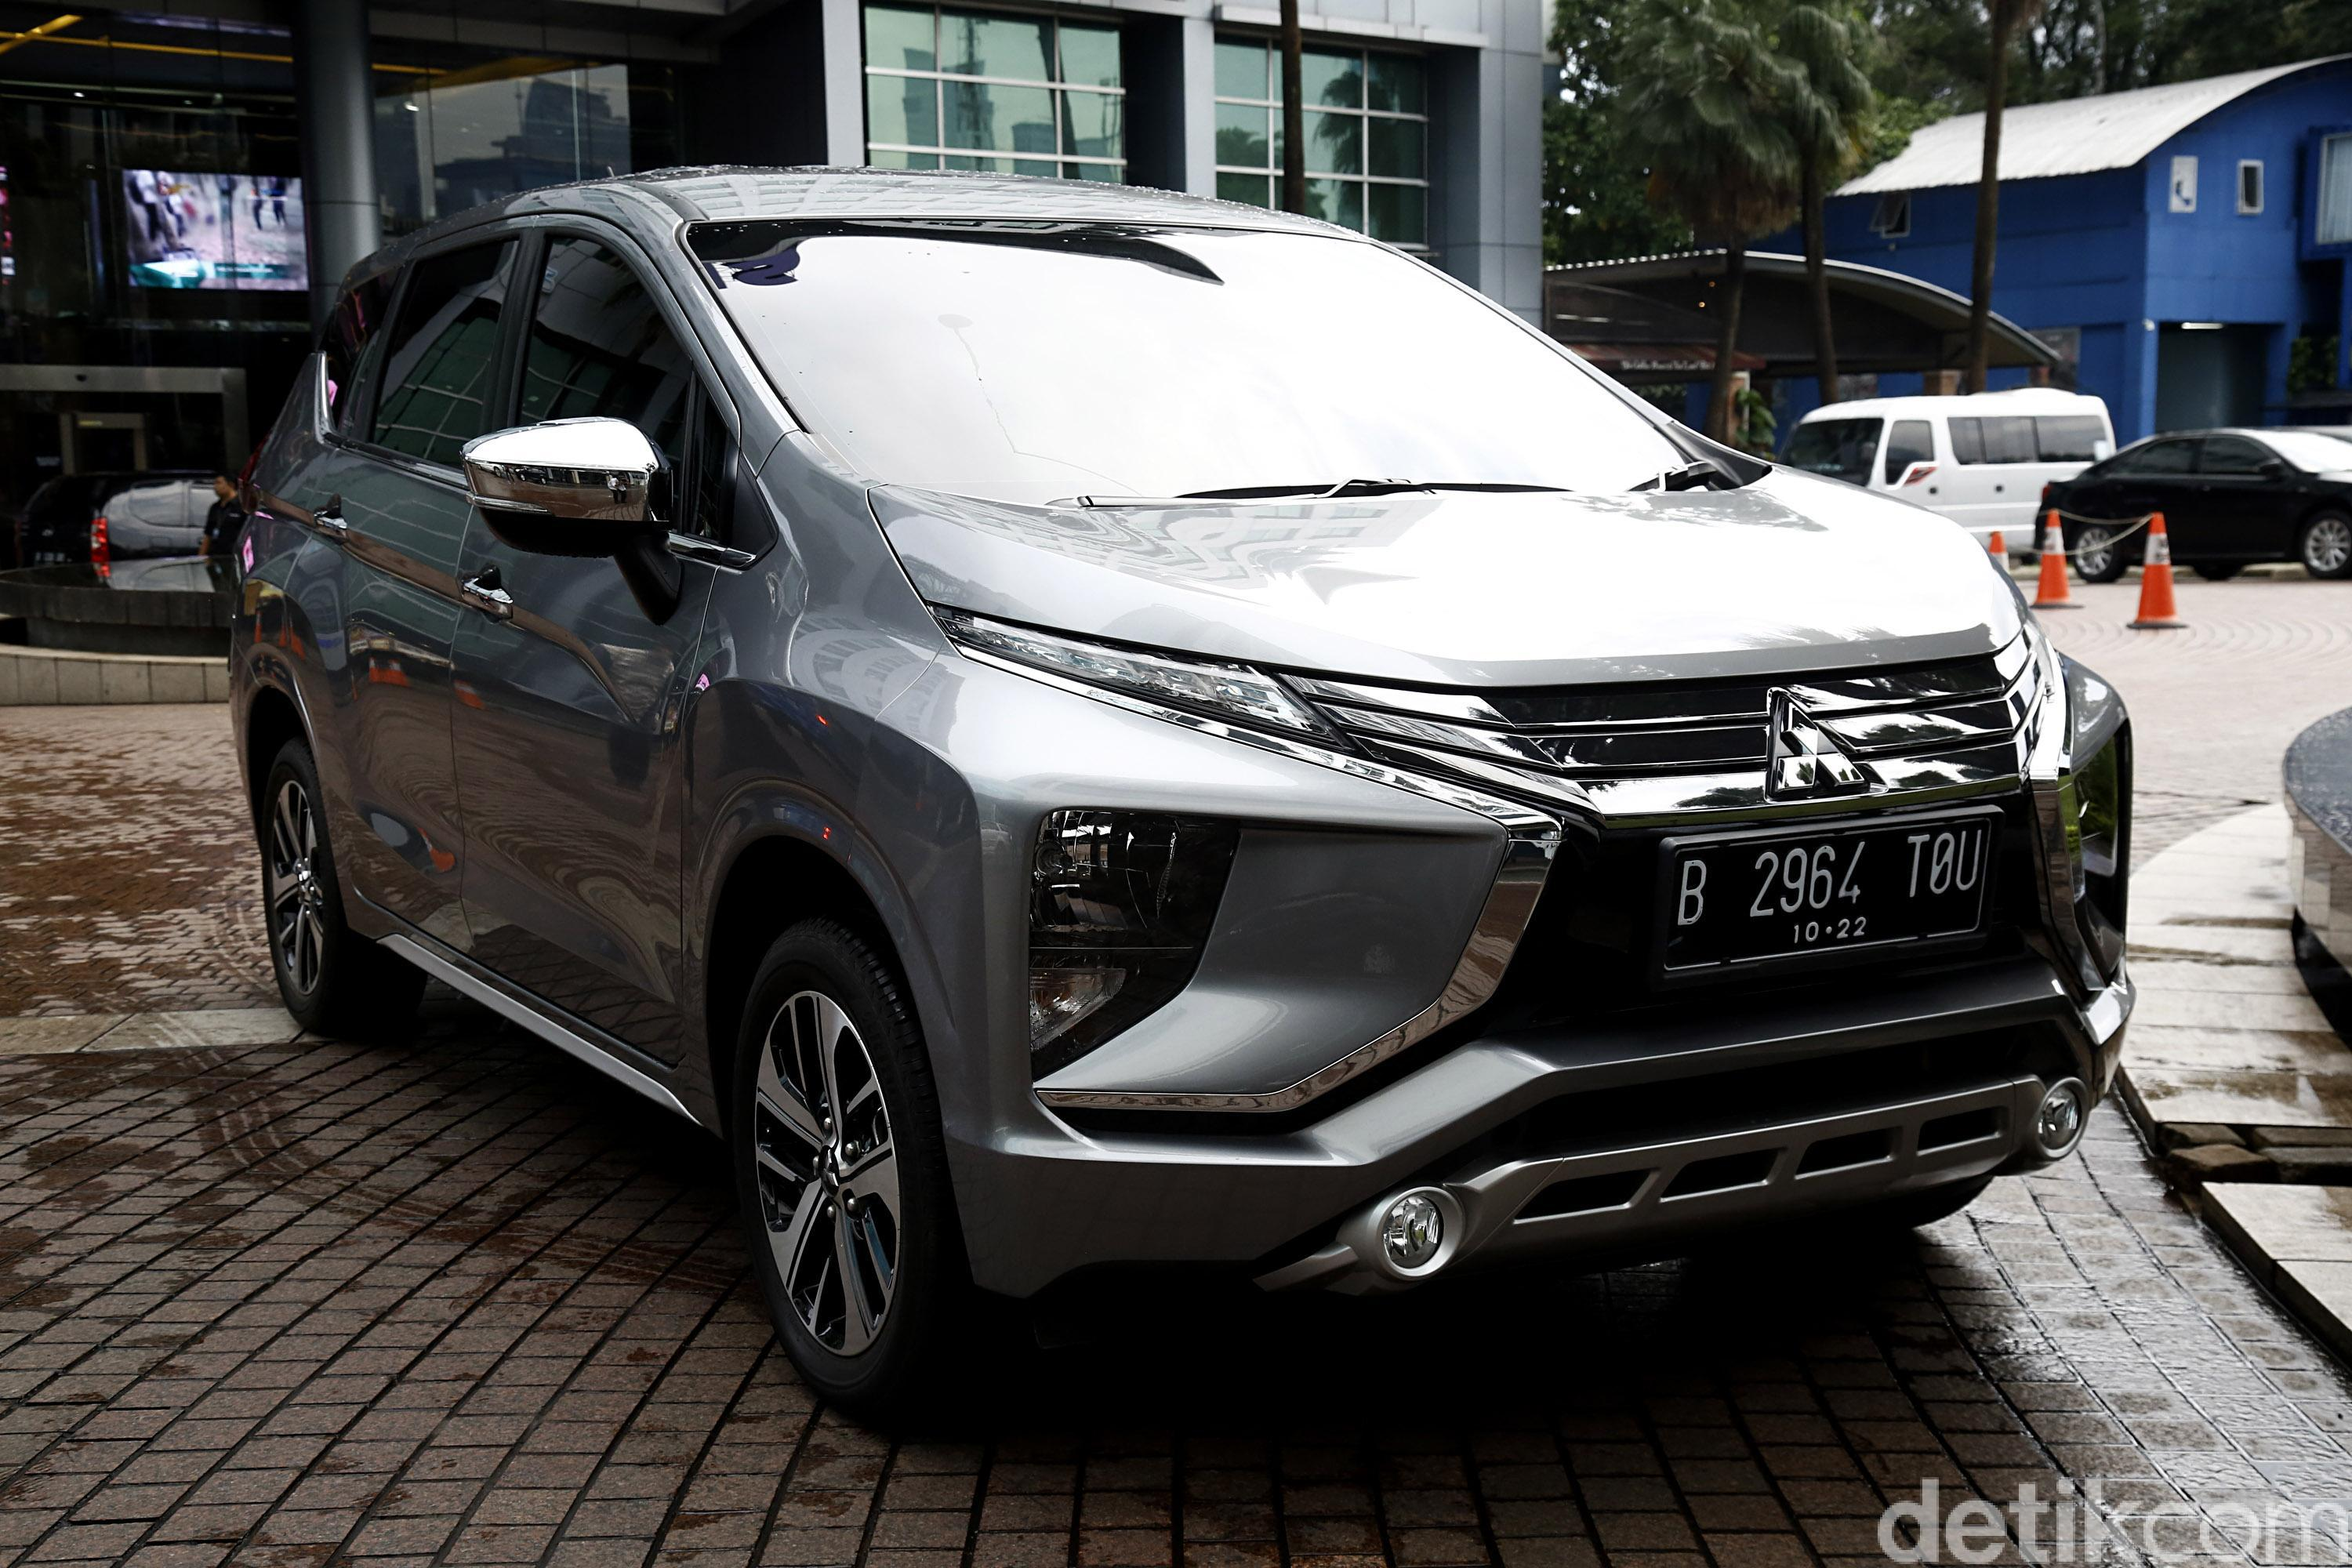plate: (1664, 814, 1988, 964)
